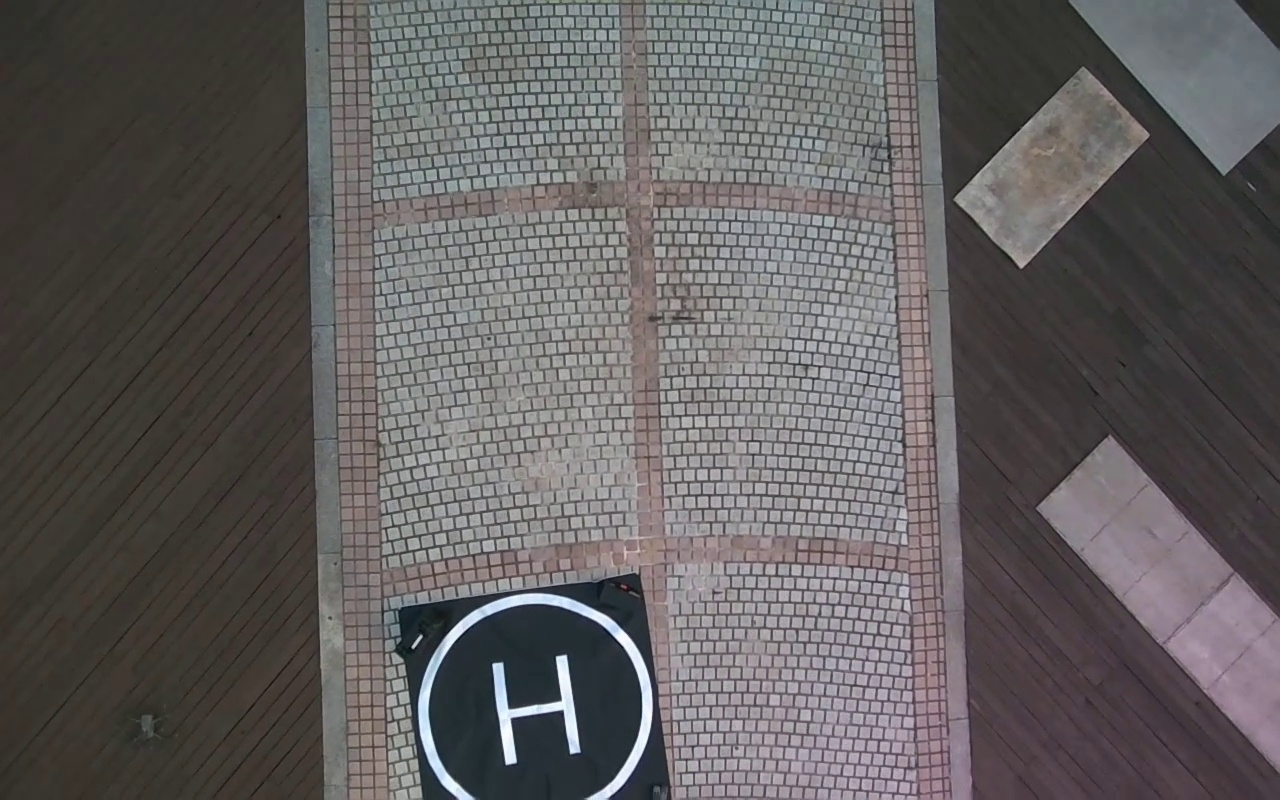H: (491, 656, 582, 763)
